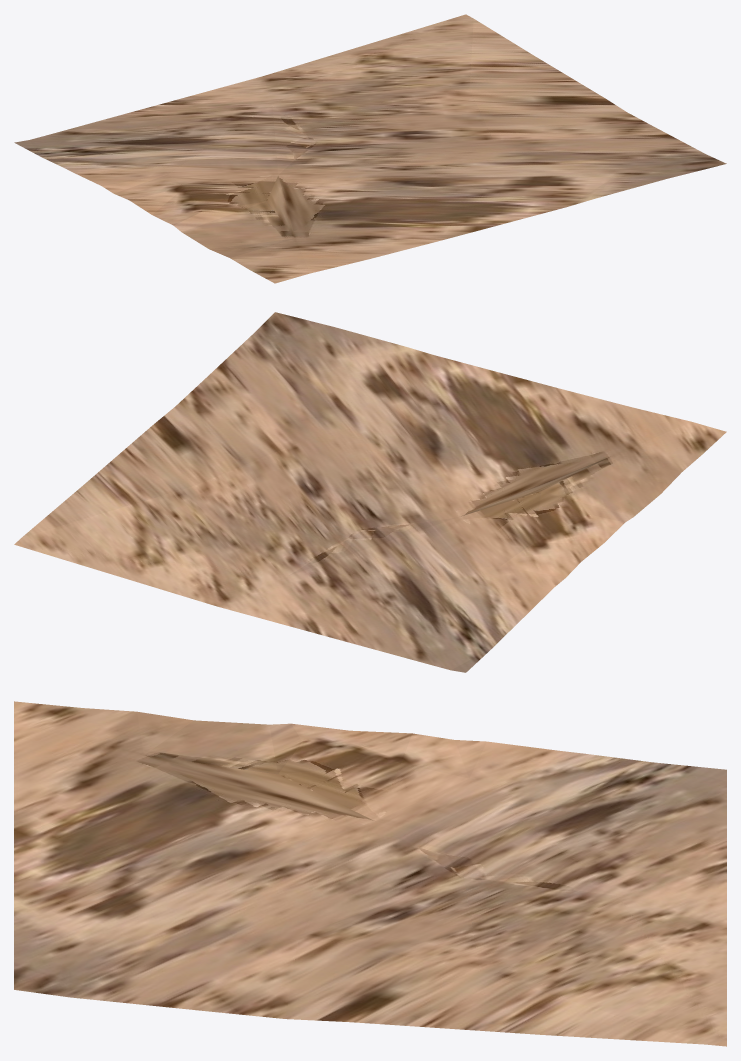
3 renders of one model, top to bottom at view 1: azimuth 30°, elevation 25°; view 2: azimuth 150°, elevation 25°; view 3: azimuth 270°, elevation 25°, orthographic. The views are drawn at different scales.
Size of the model in its own units: 1.04 by 0.1339 by 1.04.
Materials: 3 (3 with a texture image).
